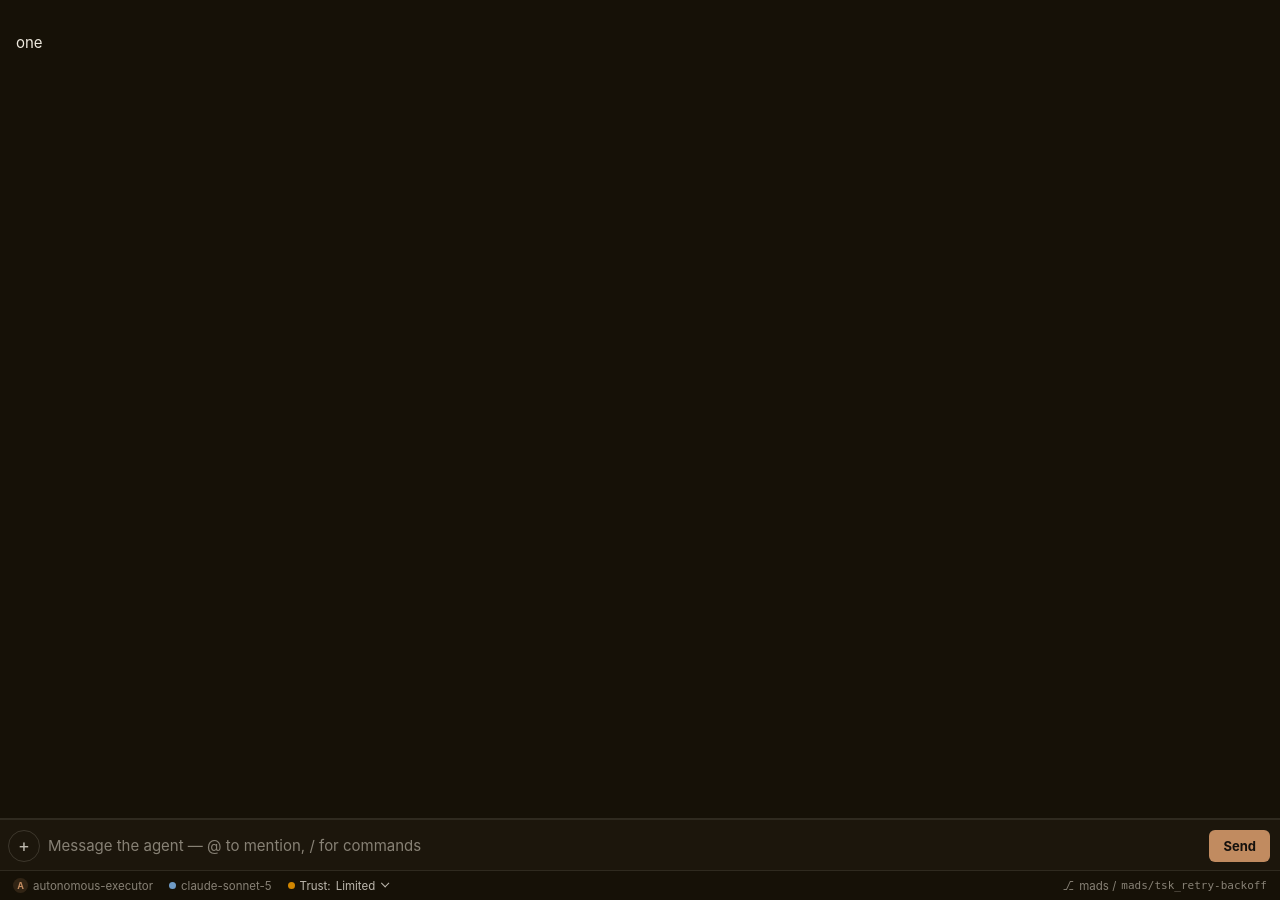
Test: ConversationTab — paced reveal › a send mid-reveal puts the whole reply in the history ahead of the new message
In the text box with placeholder "Message the agent — @ to mention, / for commands": (625,846) [46,830,1204,862], type "next question"
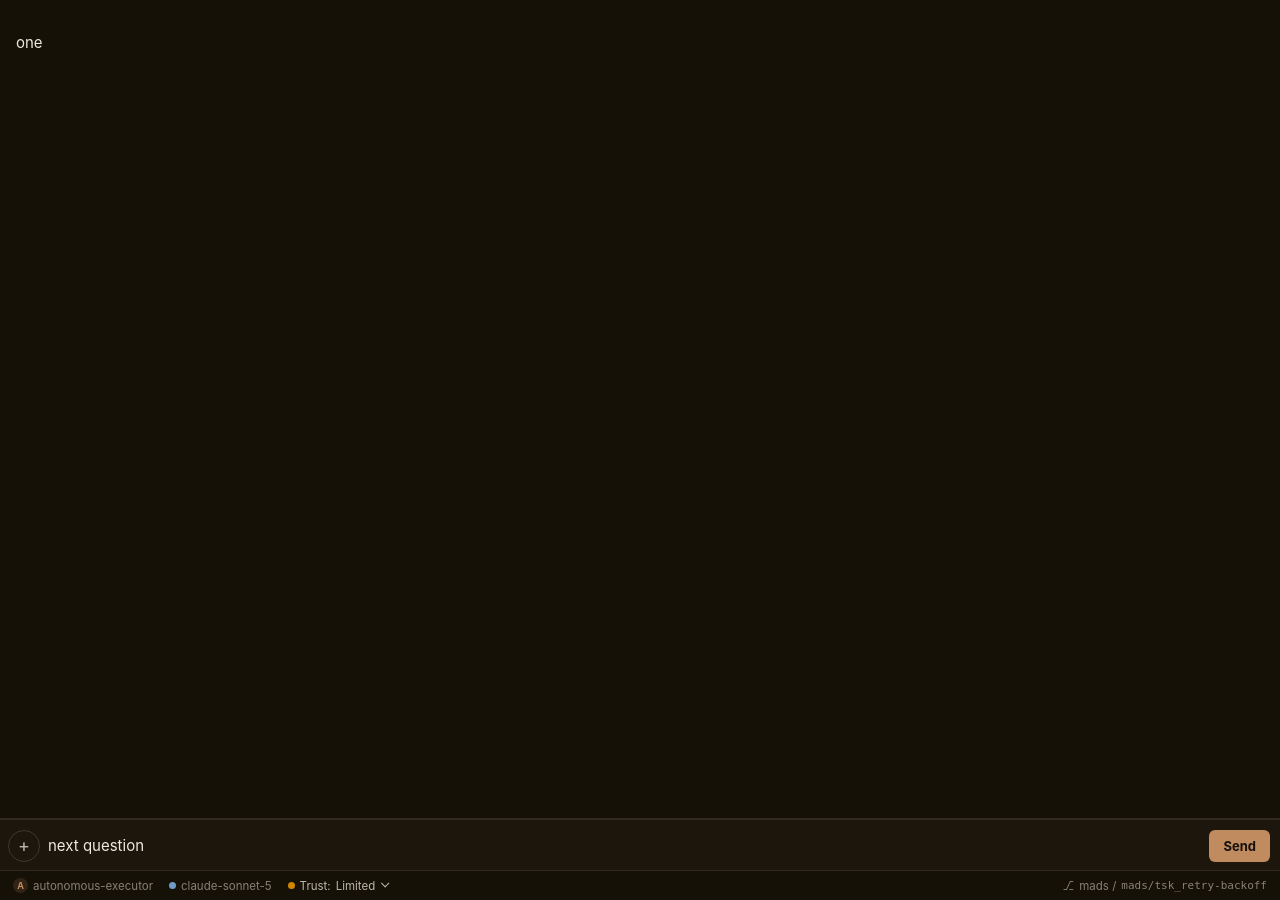
Click the button "Send": (1240,846) [1210,830,1270,862]
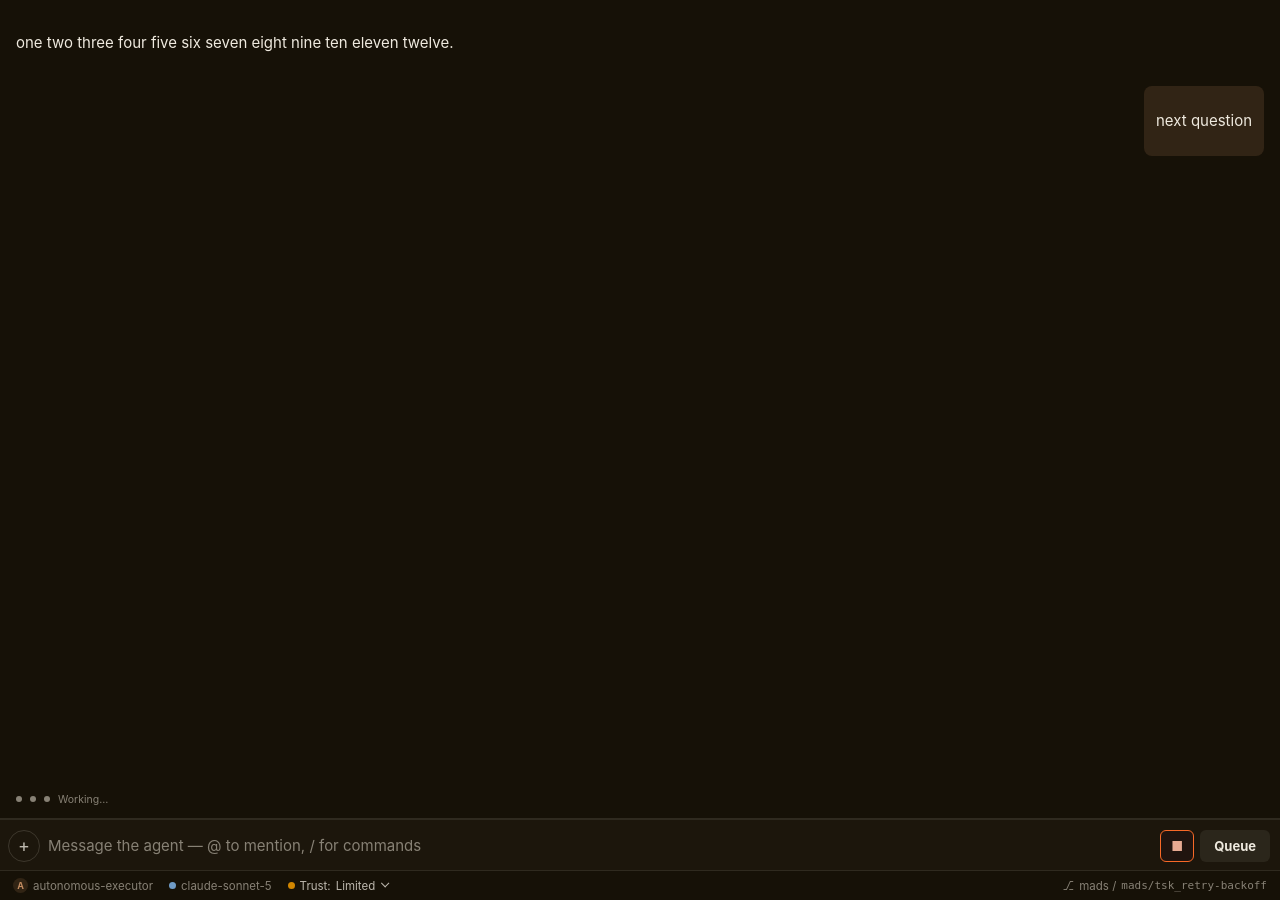
Now the text "twelve." is shown once, box [16,31,454,55]
